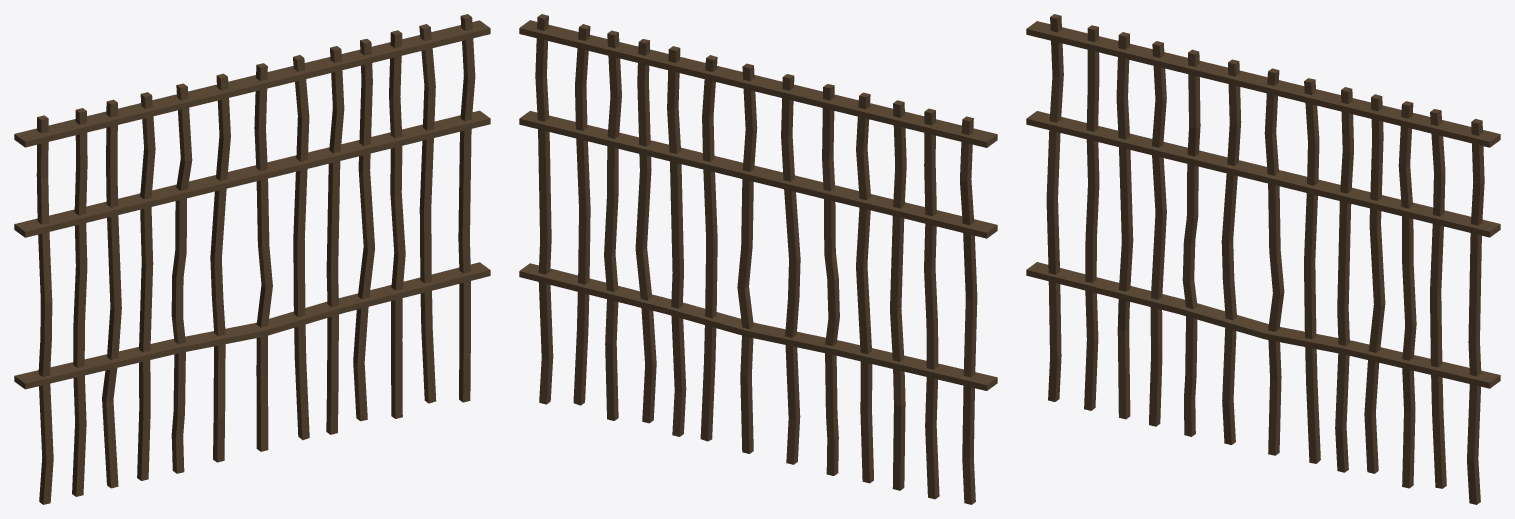
Rendered from Bars.fbx.
3 renders of one model, left to right at view 1: azimuth 30°, elevation 25°; view 2: azimuth 150°, elevation 25°; view 3: azimuth 330°, elevation 25°, orthographic.
Visible parts, largest first — view 1: Jail_Wall; view 2: Jail_Wall; view 3: Jail_Wall.
Boxes of the visible parts, x1=… form: Jail_Wall: x1=14, y1=14, x2=490, y2=504; Jail_Wall: x1=519, y1=14, x2=997, y2=504; Jail_Wall: x1=1026, y1=14, x2=1500, y2=504.
Size of the model in its own units: 400 by 318 by 16.65.
